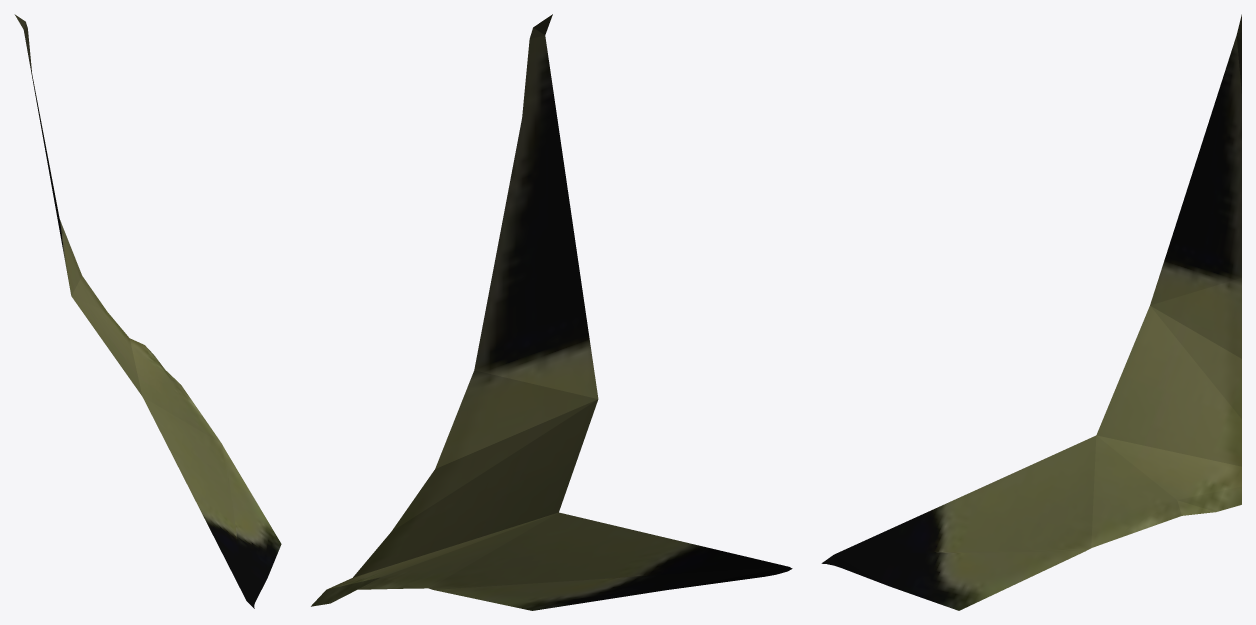
3 renders of one model, left to right at view 1: azimuth 30°, elevation 25°; view 2: azimuth 150°, elevation 25°; view 3: azimuth 270°, elevation 25°, orthographic. The views are drawn at different scales.
Bounding box in the file's own units: 1.77 × 5.7 × 4.17.
1 material, 1 textured.
